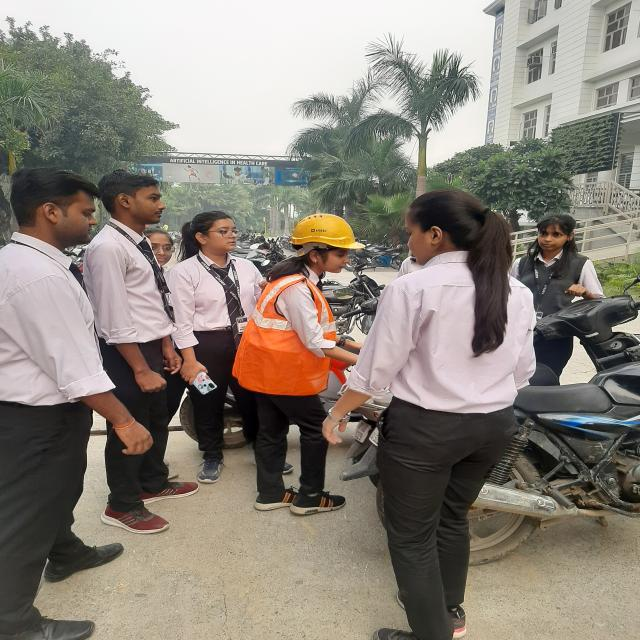safe: (250, 211, 362, 516)
unsafe: (368, 188, 518, 562), (0, 163, 106, 561), (96, 169, 180, 537), (170, 208, 256, 486), (522, 205, 601, 380)
